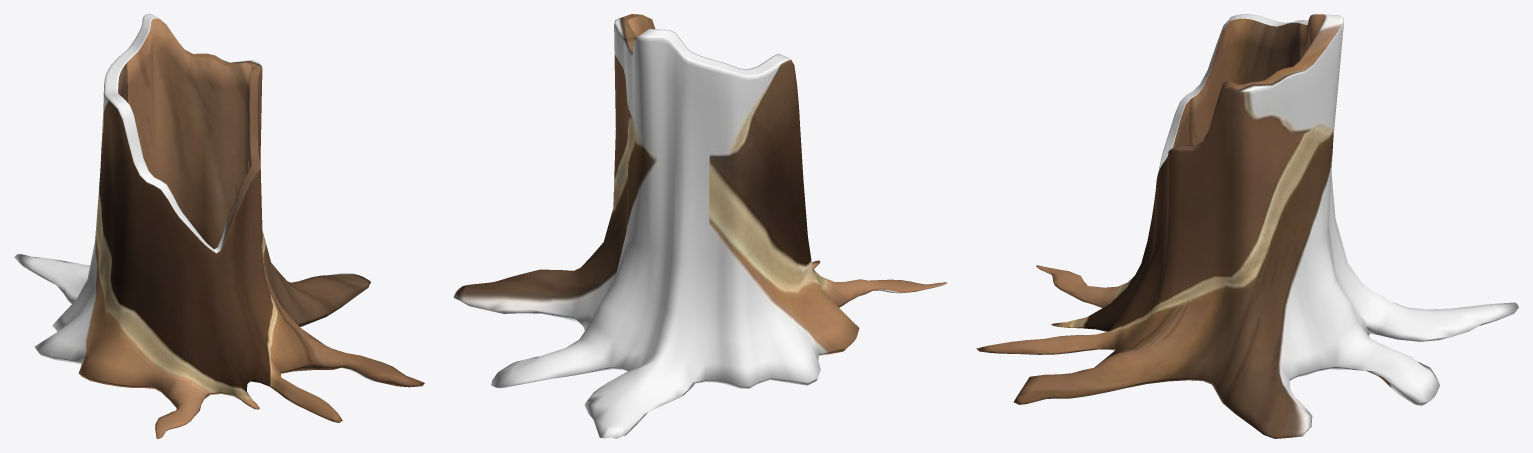
The model's file is cartoon_stump_v6.obj.
The picture shows the model from 3 angles, left to right: view 1: azimuth 30°, elevation 25°; view 2: azimuth 150°, elevation 25°; view 3: azimuth 270°, elevation 25°; orthographic projection. The views are drawn at different scales.
Visible parts, largest first — view 1: cartoon_tree_stump_v6_Circle; view 2: cartoon_tree_stump_v6_Circle; view 3: cartoon_tree_stump_v6_Circle.
Boxes of the visible parts, left/top/right/bottom form: cartoon_tree_stump_v6_Circle: left=14, top=14, right=424, bottom=438; cartoon_tree_stump_v6_Circle: left=453, top=14, right=946, bottom=438; cartoon_tree_stump_v6_Circle: left=976, top=14, right=1518, bottom=438.
Bounding box in the file's own units: 1.83 × 1.68 × 2.44.
1 material, 1 textured.
